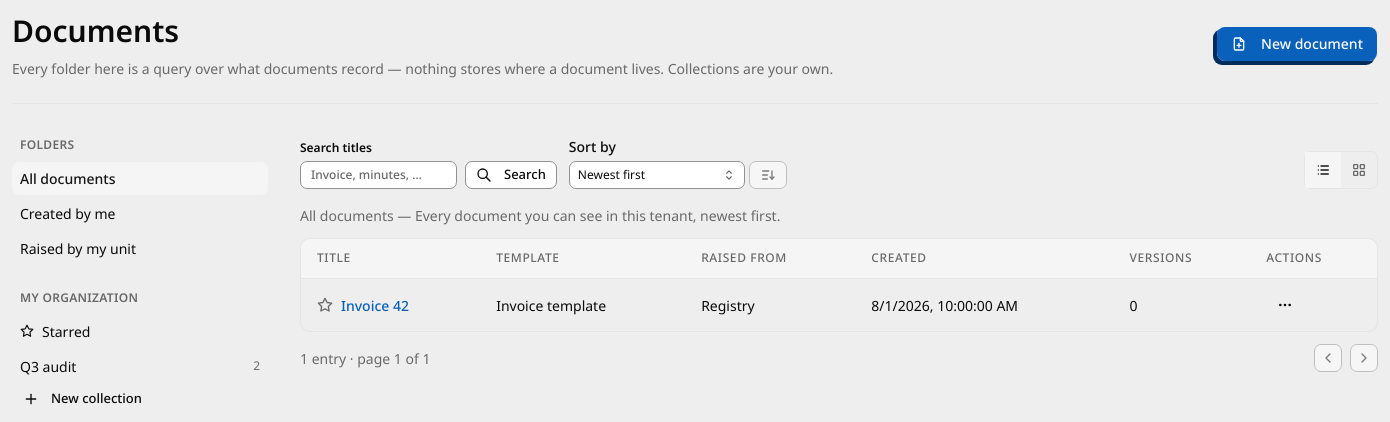
Test case: shows the server's reason for a folder this caller cannot anchor, not a generic failure
This screenshot has width=1390, height=422.
Expected: the link "Invoice 42" is shown, [341,294,409,316]
Click the button "Raised by my unit".
click(140, 248)  # box [12,232,268,264]
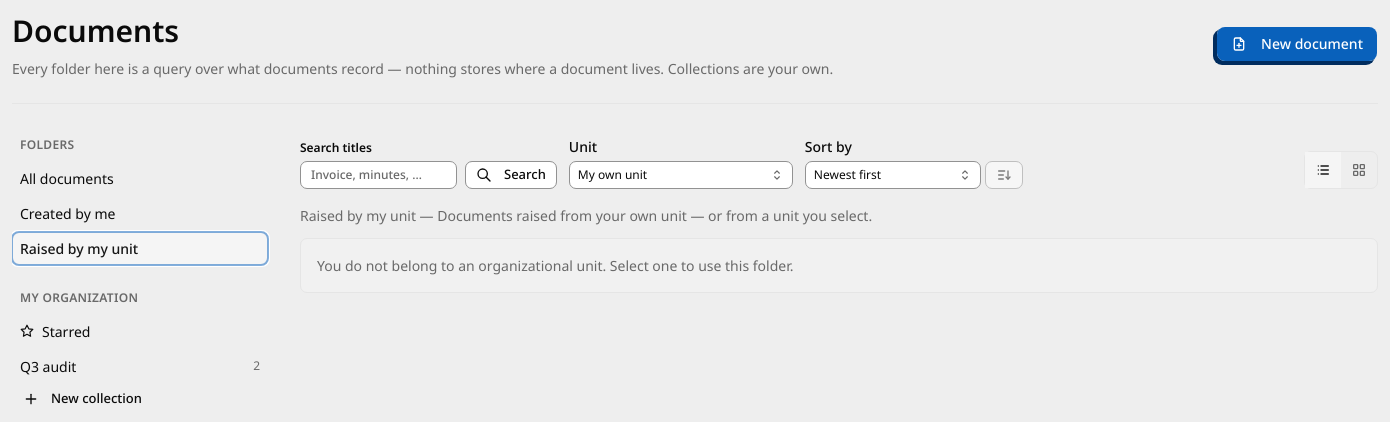
Now the text "You do not belong to an organizational unit. Select one to use this folder." is shown, box [300,238,1378,292]
